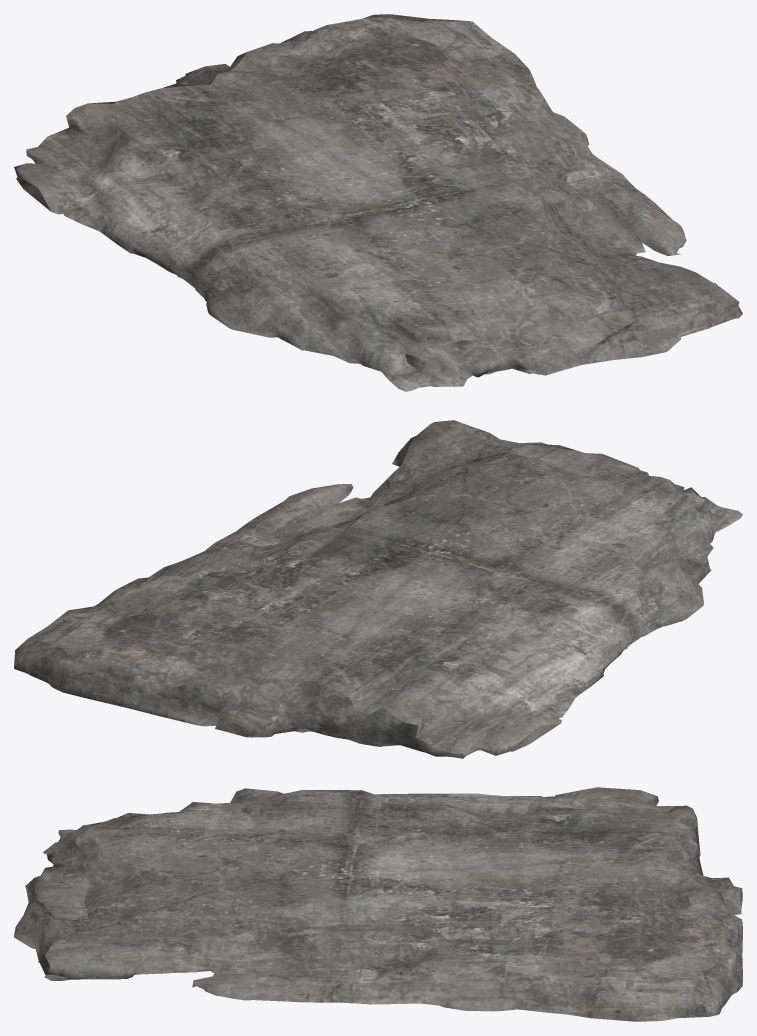
The model's file is pedra3.glb.
3 renders of one model, top to bottom at view 1: azimuth 30°, elevation 25°; view 2: azimuth 150°, elevation 25°; view 3: azimuth 270°, elevation 25°, orthographic. The views are drawn at different scales.
Visible parts, largest first — view 1: models\props\rock_floor_model_3.vmdl_c.rock_floor_model_3; view 2: models\props\rock_floor_model_3.vmdl_c.rock_floor_model_3; view 3: models\props\rock_floor_model_3.vmdl_c.rock_floor_model_3.
Boxes of the visible parts, box(x1,y1,x2,y2) form: models\props\rock_floor_model_3.vmdl_c.rock_floor_model_3: box(14, 14, 742, 391); models\props\rock_floor_model_3.vmdl_c.rock_floor_model_3: box(14, 420, 742, 758); models\props\rock_floor_model_3.vmdl_c.rock_floor_model_3: box(14, 787, 742, 1021).
Size of the model in its own units: 3.95 by 0.2768 by 5.34.
1 material, 1 textured.
